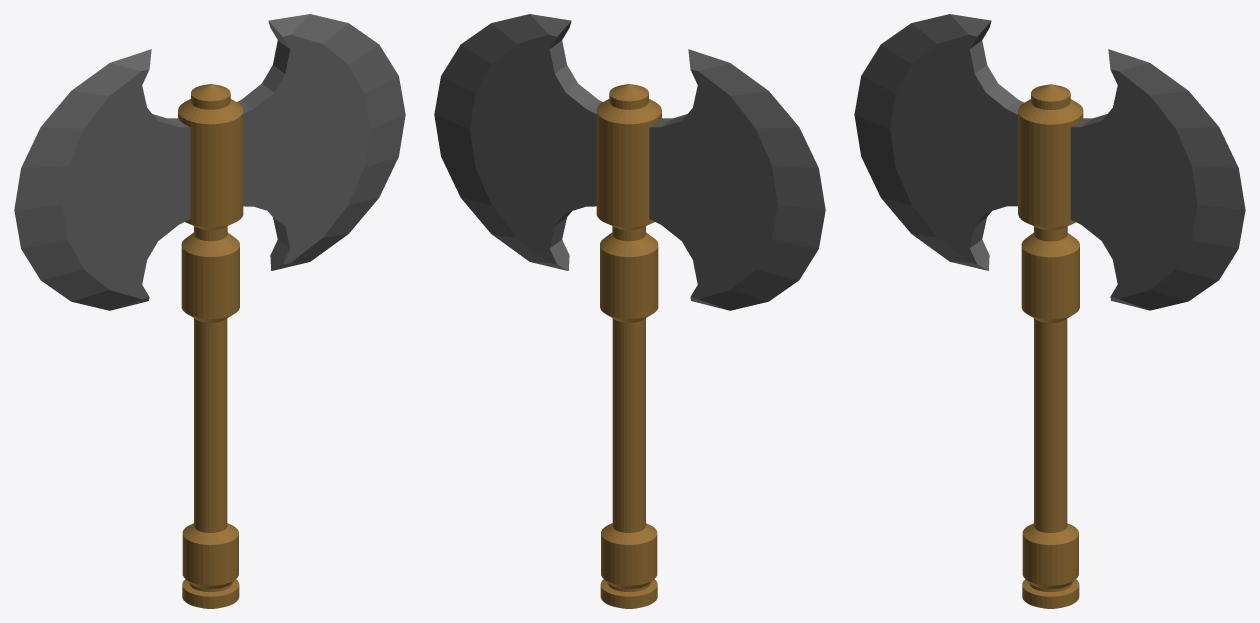
Rendered from Balta.fbx.
3 views of the same model, side by side, from view 1: azimuth 30°, elevation 25°; view 2: azimuth 150°, elevation 25°; view 3: azimuth 330°, elevation 25° (orthographic).
Parts seen in each view (by area): view 1: Cylinder; view 2: Cylinder; view 3: Cylinder.
Boxes of the visible parts, bbox=[...] form: Cylinder: bbox=[14, 14, 405, 608]; Cylinder: bbox=[434, 14, 825, 608]; Cylinder: bbox=[854, 14, 1245, 608].
Size of the model in its own units: 302 by 417 by 43.78.
